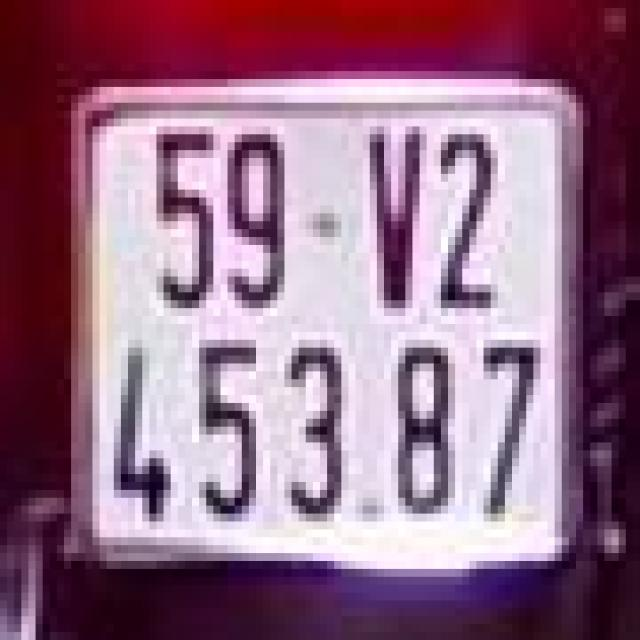2: (431, 126, 508, 324)
3: (281, 328, 352, 533)
4: (114, 336, 178, 525)
5: (181, 340, 267, 529), (146, 111, 224, 316)
7: (470, 336, 540, 525)
8: (381, 336, 458, 533)
9: (228, 126, 298, 324)
V: (356, 118, 426, 332)
